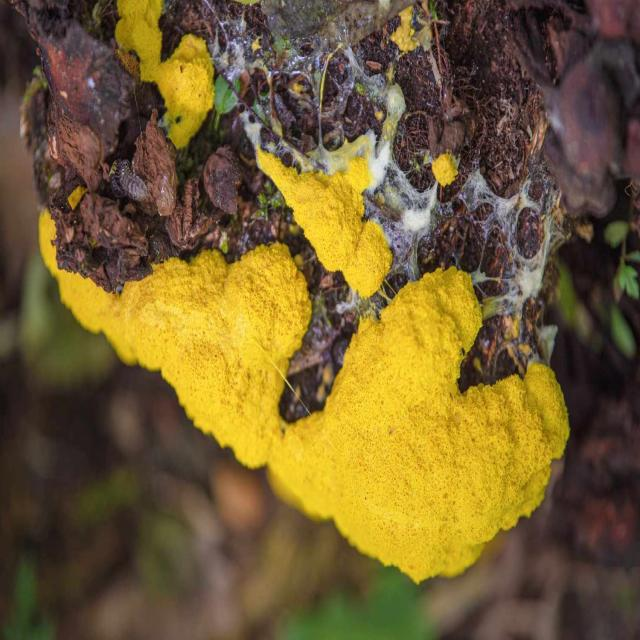Dog_vomit_slime_mold: (8, 151, 594, 581)
